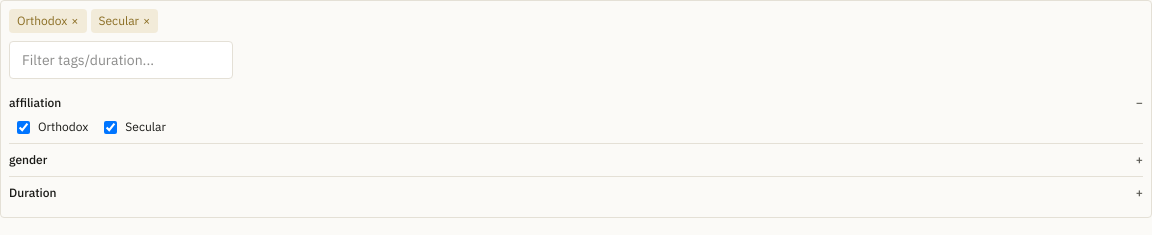
Scenario: FacetCheckboxGroups › shows a selected-count badge on a collapsed section
// Auto-expanded (has a selection) -- collapse it back to see the badge.
Click the button "affiliation −".
click(35, 102)  # box [9,91,1143,115]
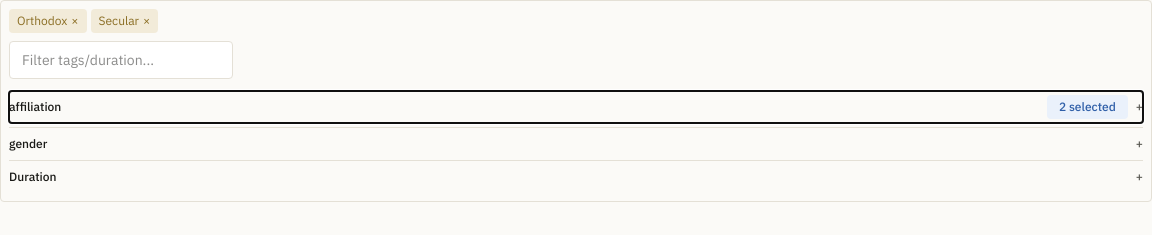
Now the text "2 selected" is shown, box [1047,95,1128,119]
